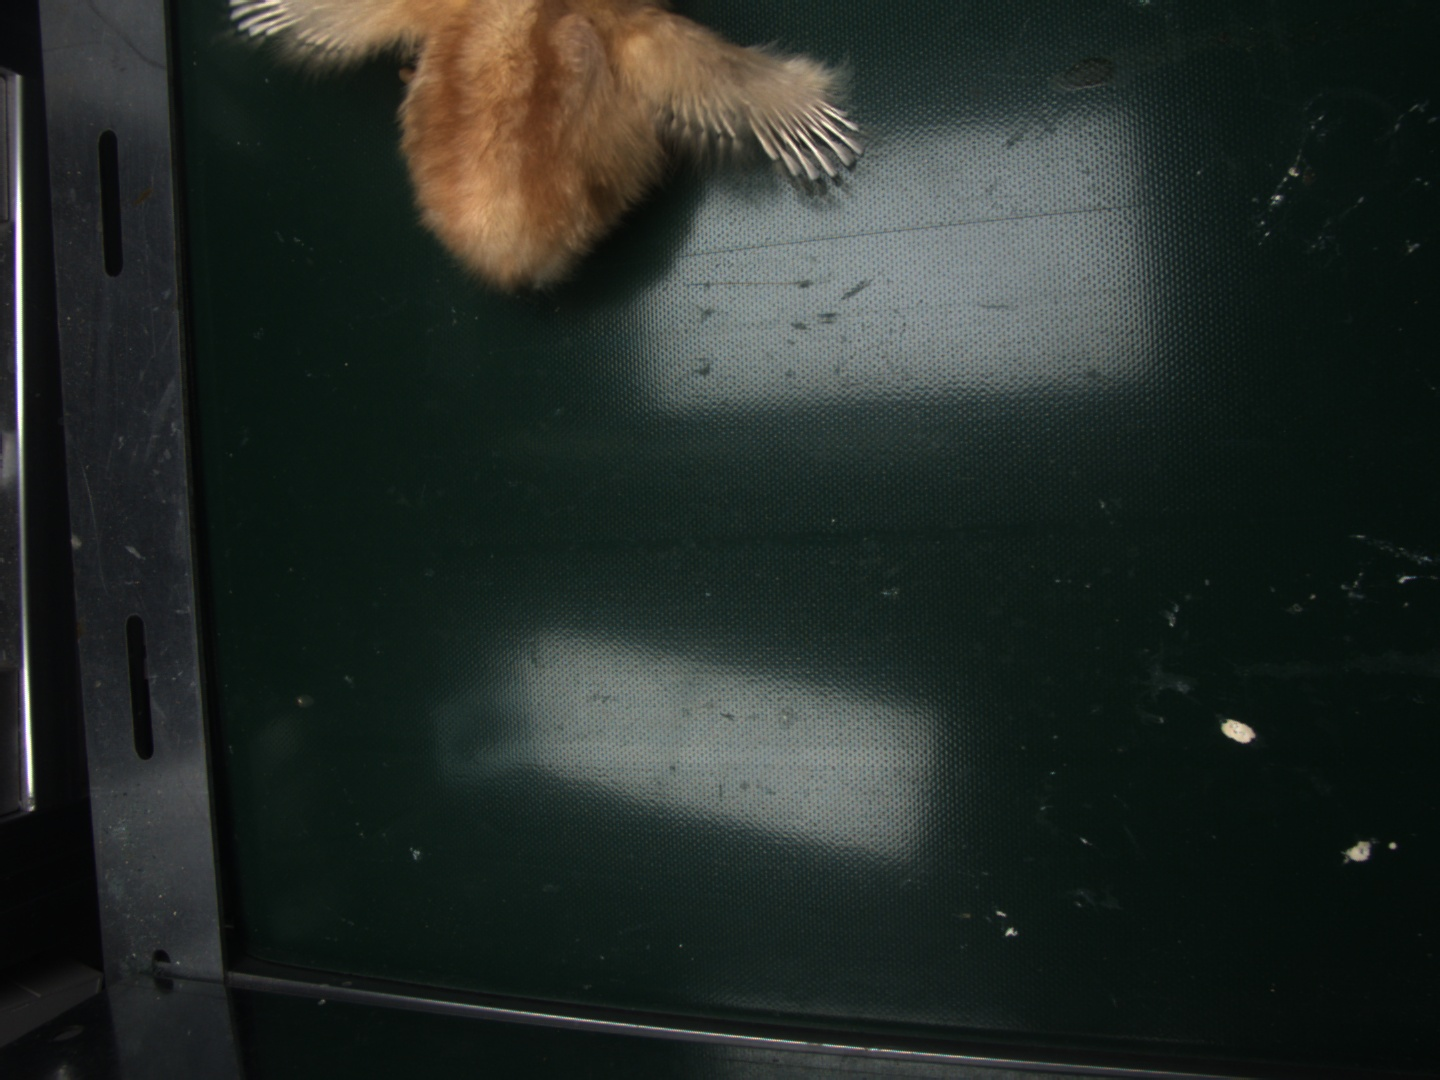female: (755, 93, 858, 170)
